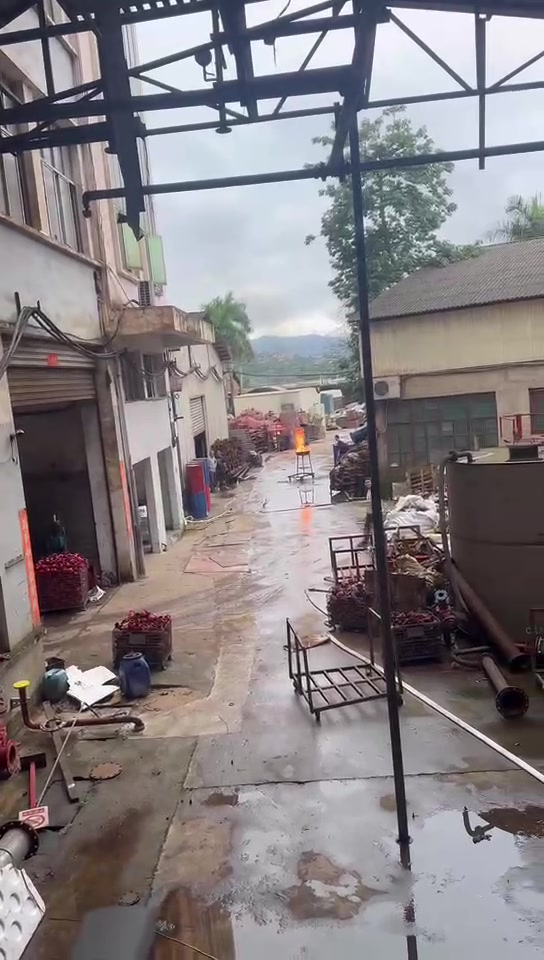fire: (292, 428, 308, 452)
